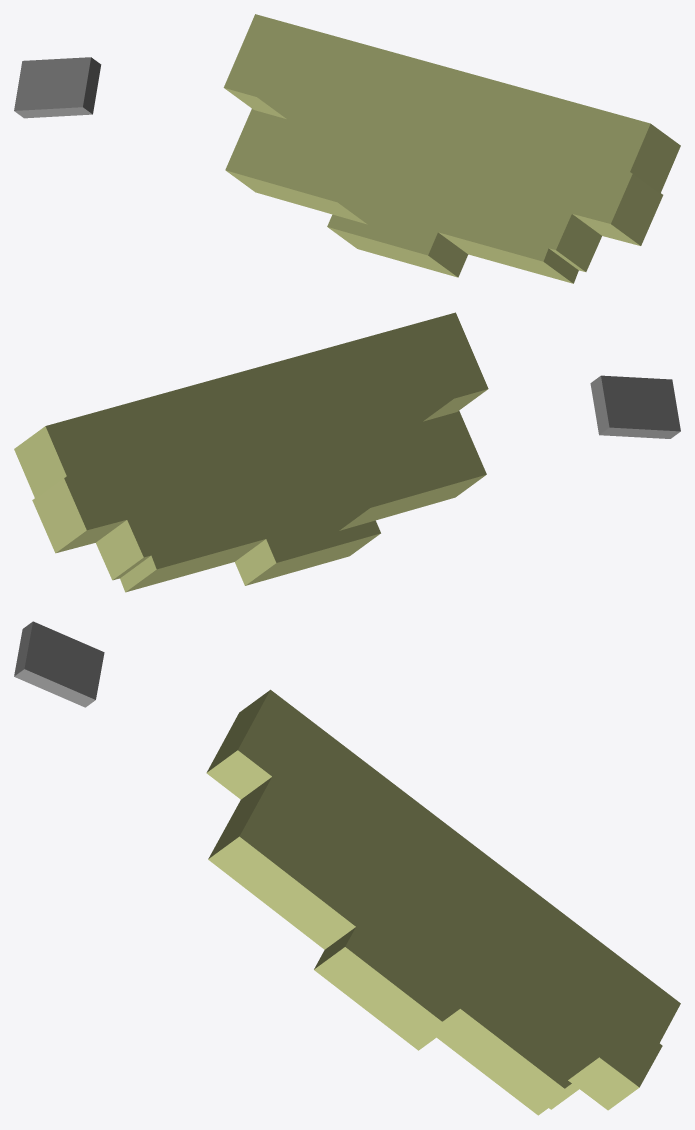
The picture shows the model from 3 angles, top to bottom: view 1: azimuth 30°, elevation 25°; view 2: azimuth 150°, elevation 25°; view 3: azimuth 330°, elevation 25°; orthographic projection. The views are drawn at different scales.
Visible parts, largest first — view 1: 0_1_0_0_1_2_3_3; view 2: 0_1_0_0_1_2_3_3; view 3: 0_1_0_0_1_2_3_3.
Part boxes in pixels (x1,y1,x2,y2): 0_1_0_0_1_2_3_3: (14, 14, 680, 283); 0_1_0_0_1_2_3_3: (14, 312, 680, 592); 0_1_0_0_1_2_3_3: (14, 621, 680, 1115).
Bounding box in the file's own units: 109 × 53.42 × 9.6.
